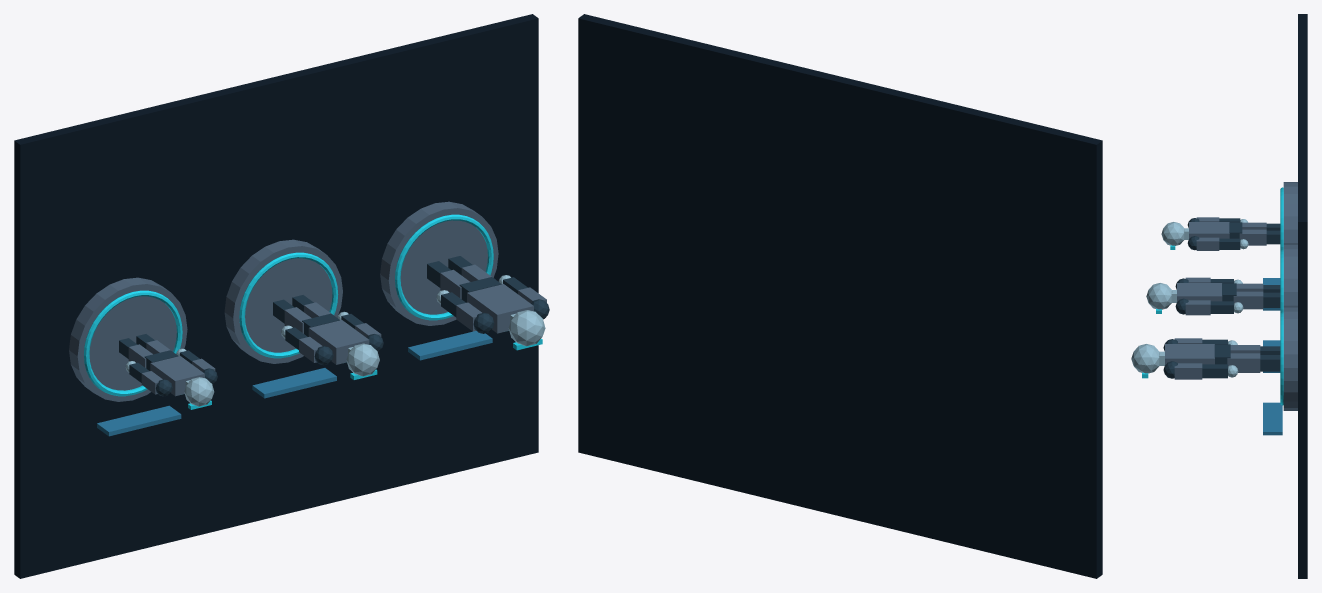
File: 03_JARVIS_Avatar_Workshop.obj
3 views of the same model, side by side, from view 1: azimuth 30°, elevation 25°; view 2: azimuth 150°, elevation 25°; view 3: azimuth 270°, elevation 25° (orthographic). The views are drawn at different scales.
Visible parts, largest first — view 1: Workbench, Plinth__3, Plinth_0, Plinth_3, Prototype_03_torso, PlinthRing__3, PlinthRing_0, PlinthRing_3, Prototype_02_torso, LabelPanel_0, LabelPanel_1, LabelPanel_2 (+4 smaller); view 2: Workbench; view 3: Workbench, Plinth_3, Prototype_03_torso, Plinth__3, Plinth_0, Prototype_02_torso, Prototype_03_head, LabelPanel_2, Prototype_01_torso, Prototype_03_thigh_R, Prototype_02_head, Prototype_02_thigh_R (+17 smaller).
Part boxes in pixels (x1,y1,x2,y2): Workbench: [14, 14, 538, 578]; Plinth__3: [69, 277, 187, 401]; Plinth_0: [224, 239, 342, 363]; Plinth_3: [380, 201, 498, 325]; Prototype_03_torso: [467, 284, 533, 333]; PlinthRing__3: [84, 290, 182, 396]; PlinthRing_0: [239, 252, 338, 358]; PlinthRing_3: [395, 214, 493, 320]; Prototype_02_torso: [308, 320, 369, 364]; LabelPanel_0: [97, 405, 181, 436]; LabelPanel_1: [252, 368, 336, 398]; LabelPanel_2: [408, 331, 492, 360]; Workbench: [578, 14, 1102, 578]; Workbench: [1298, 14, 1307, 578]; Plinth_3: [1283, 307, 1297, 410]; Prototype_03_torso: [1165, 344, 1214, 364]; Plinth__3: [1283, 182, 1297, 244]; Plinth_0: [1283, 244, 1297, 306]; Prototype_02_torso: [1177, 283, 1222, 301]; Prototype_03_head: [1131, 344, 1159, 373]; LabelPanel_2: [1263, 402, 1282, 435]; Prototype_01_torso: [1189, 222, 1229, 238]; Prototype_03_thigh_R: [1227, 353, 1260, 372]; Prototype_02_head: [1146, 283, 1172, 309]; Prototype_02_thigh_R: [1233, 291, 1263, 309].
Size of the model in its own units: 10 by 8 by 3.58.
